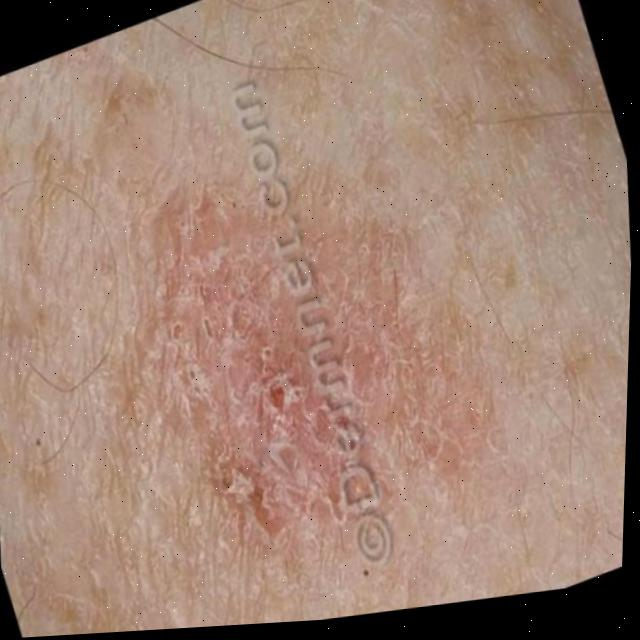Eczema: (128, 239, 437, 540)
